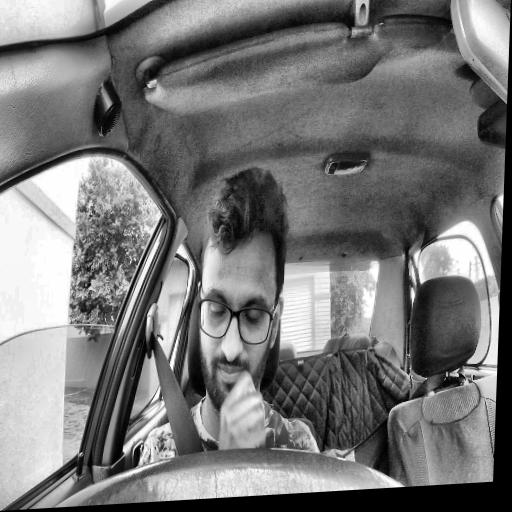drowsy: (192, 163, 292, 414)
